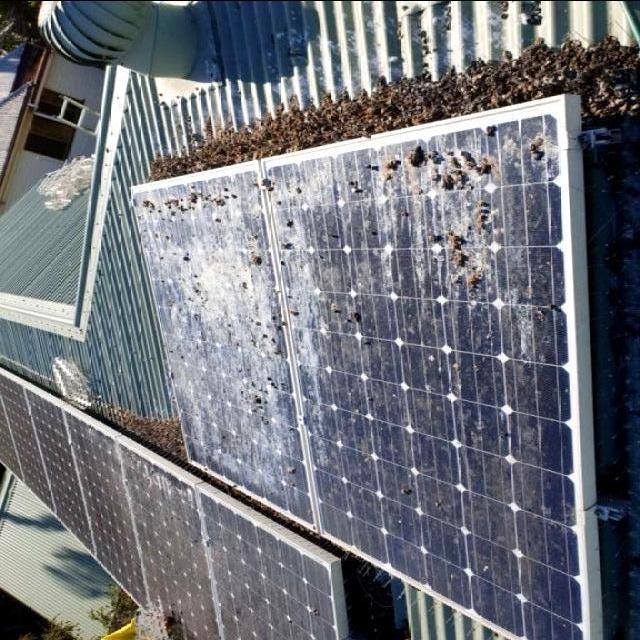soiled: (177, 89, 584, 561), (6, 433, 351, 635)
